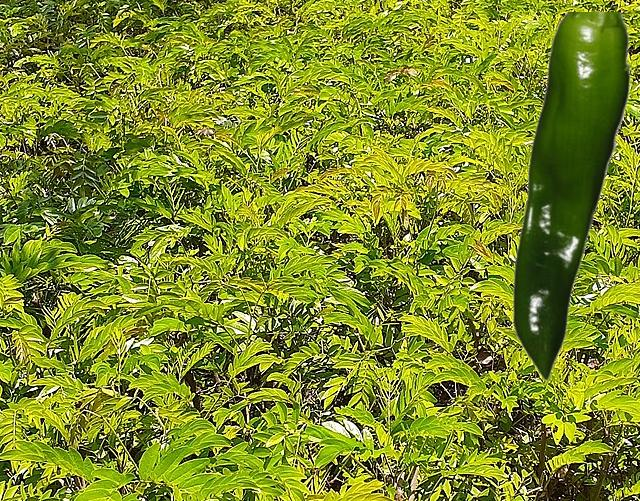green_chili: (511, 12, 629, 380)
